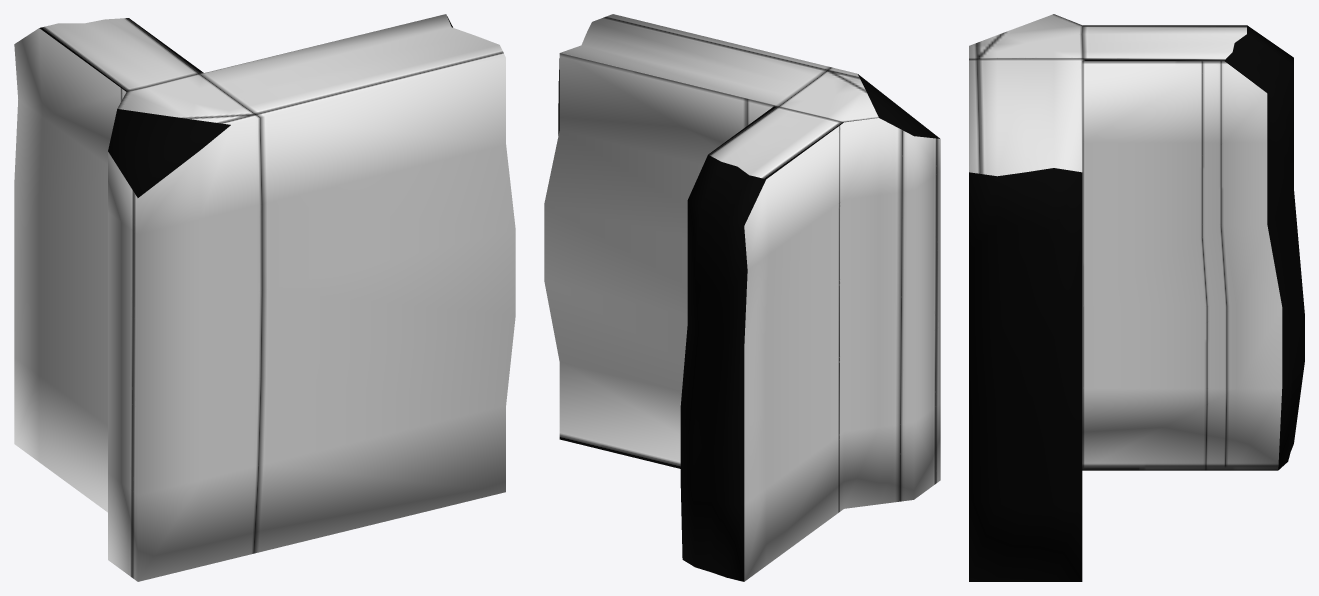
The model's file is cementBlock_2Quarter.fbx.
3 views of the same model, side by side, from view 1: azimuth 30°, elevation 25°; view 2: azimuth 150°, elevation 25°; view 3: azimuth 270°, elevation 25° (orthographic). The views are drawn at different scales.
Parts seen in each view (by area): view 1: CementBlockQuarter; view 2: CementBlockQuarter; view 3: CementBlockQuarter.
Part boxes in pixels (x1,y1,x2,y2): CementBlockQuarter: [14, 14, 515, 581]; CementBlockQuarter: [544, 14, 940, 581]; CementBlockQuarter: [969, 14, 1304, 581].
Bounding box in the file's own units: 0.1923 × 0.2032 × 0.151.
